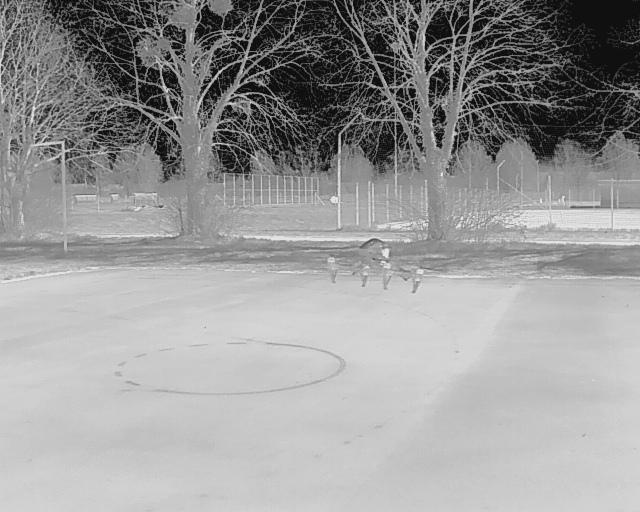drone: (308, 231, 450, 300)
